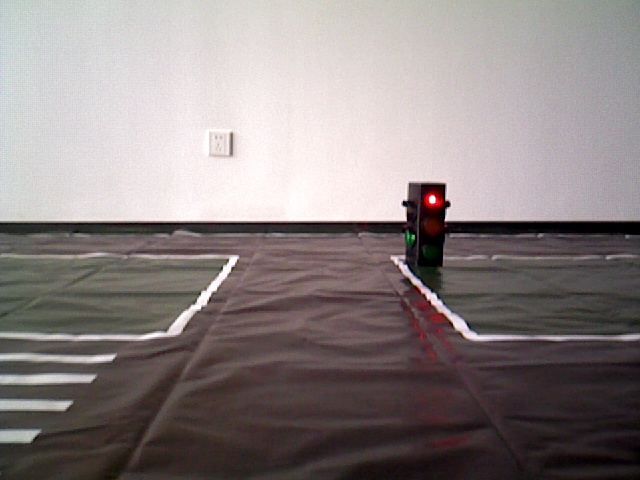red: (404, 186, 442, 268)
